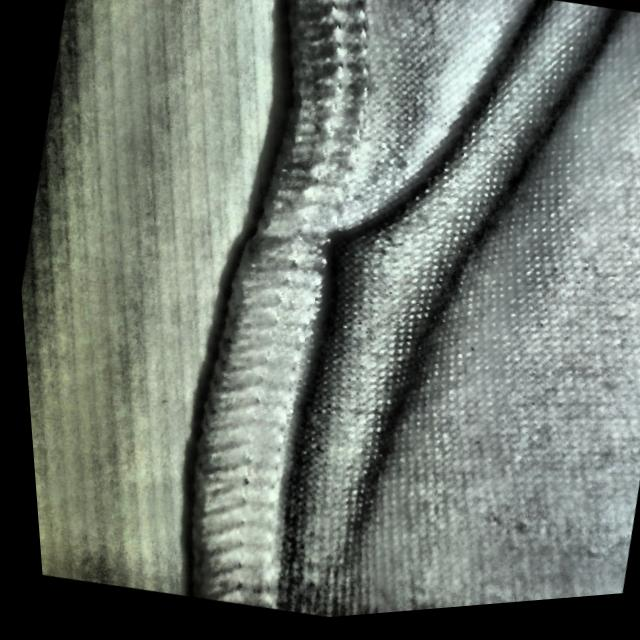seam: (201, 131, 468, 386)
